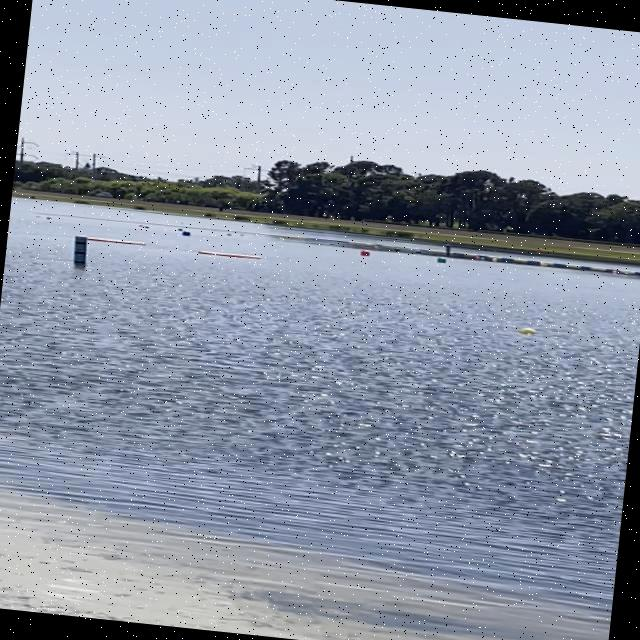buoy: (512, 323, 548, 341), (352, 246, 374, 260), (432, 255, 452, 267), (180, 228, 194, 238)
